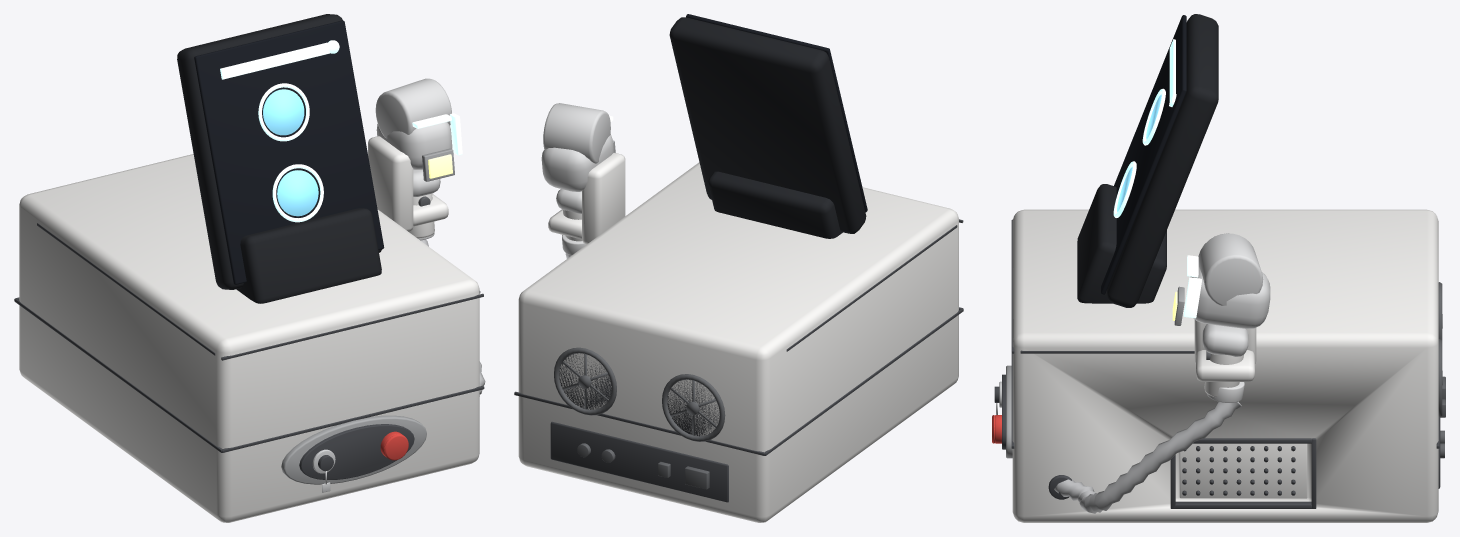
Rendered from aurum-laser-machine.glb.
3 renders of one model, left to right at view 1: azimuth 30°, elevation 25°; view 2: azimuth 150°, elevation 25°; view 3: azimuth 270°, elevation 25°, orthographic. The views are drawn at different scales.
Parts seen in each view (by area): view 1: Body, ScreenGlass, ScreenNeck, ScreenBezel, FrontPlateIn, HolBack, HpCrown, FrontPlate, HpHead, UIfill0, UIfill1, UIstatus (+7 smaller); view 2: Body, ScreenBezel, RearPanel, ScreenNeck, HolBack, HpCrown, HpHead, FanLRecess, FanRRecess, ScreenGlass, FanRRim, FanLRim (+5 smaller); view 3: Body, ScreenBezel, VentPanel, ScreenGlass, ScreenNeck, Cable, HpCrown, HpHead, HolLower, HpNeck, VentFrame0.0220.028, VentFrame0.0220.116 (+5 smaller).
Boxes of the visible parts, x1,y1,x2,y2 form: Body: [19, 154, 479, 522]; ScreenGlass: [194, 20, 384, 284]; ScreenNeck: [236, 208, 381, 303]; ScreenBezel: [177, 14, 381, 289]; FrontPlateIn: [299, 424, 414, 479]; HolBack: [368, 136, 413, 231]; HpCrown: [375, 78, 451, 138]; FrontPlate: [281, 415, 426, 484]; HpHead: [376, 122, 452, 169]; UIfill0: [263, 89, 304, 135]; UIfill1: [277, 170, 318, 216]; UIstatus: [220, 42, 329, 79]; Body: [518, 162, 958, 522]; ScreenBezel: [669, 17, 866, 233]; RearPanel: [550, 421, 728, 502]; ScreenNeck: [708, 171, 842, 238]; HolBack: [582, 152, 625, 244]; HpCrown: [543, 103, 610, 163]; HpHead: [541, 134, 613, 191]; FanLRecess: [667, 379, 719, 436]; FanRRecess: [559, 353, 611, 409]; ScreenGlass: [686, 14, 867, 212]; FanRRim: [554, 347, 616, 415]; FanLRim: [662, 374, 725, 441]; Body: [1012, 209, 1438, 522]; ScreenBezel: [1107, 14, 1218, 307]; VentPanel: [1179, 443, 1307, 498]; ScreenGlass: [1101, 15, 1186, 294]; ScreenNeck: [1077, 184, 1166, 303]; Cable: [1054, 401, 1241, 513]; HpCrown: [1198, 233, 1263, 305]; HpHead: [1190, 266, 1270, 328]; HolLower: [1196, 350, 1254, 381]; HpNeck: [1202, 324, 1248, 356]; VentFrame0.0220.028: [1175, 501, 1311, 508]; VentFrame0.0220.116: [1193, 438, 1311, 443].
Bounding box in the file's own units: 0.4723 × 0.5529 × 0.554.
